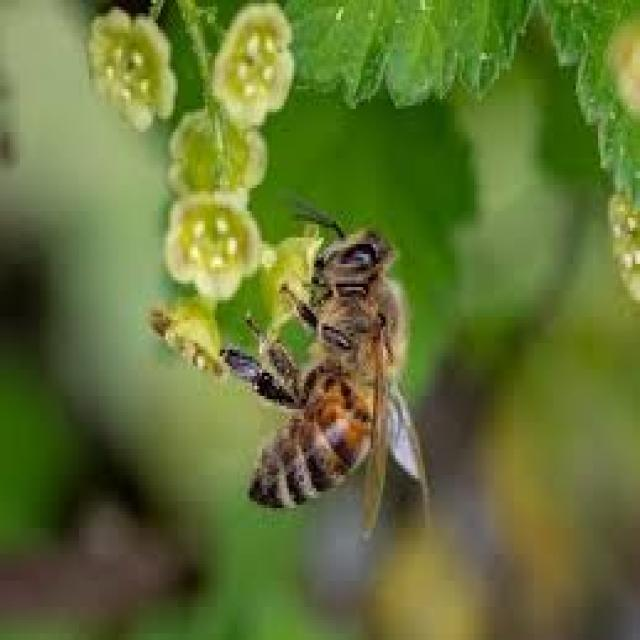Bees: (217, 198, 430, 529)
